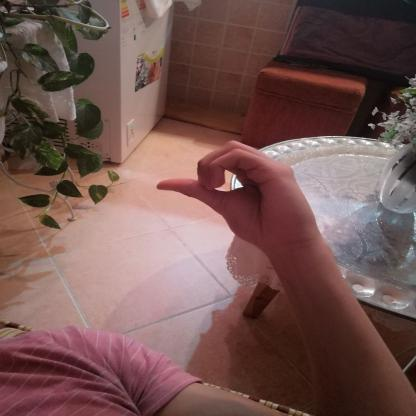WAW: (145, 132, 329, 258)
